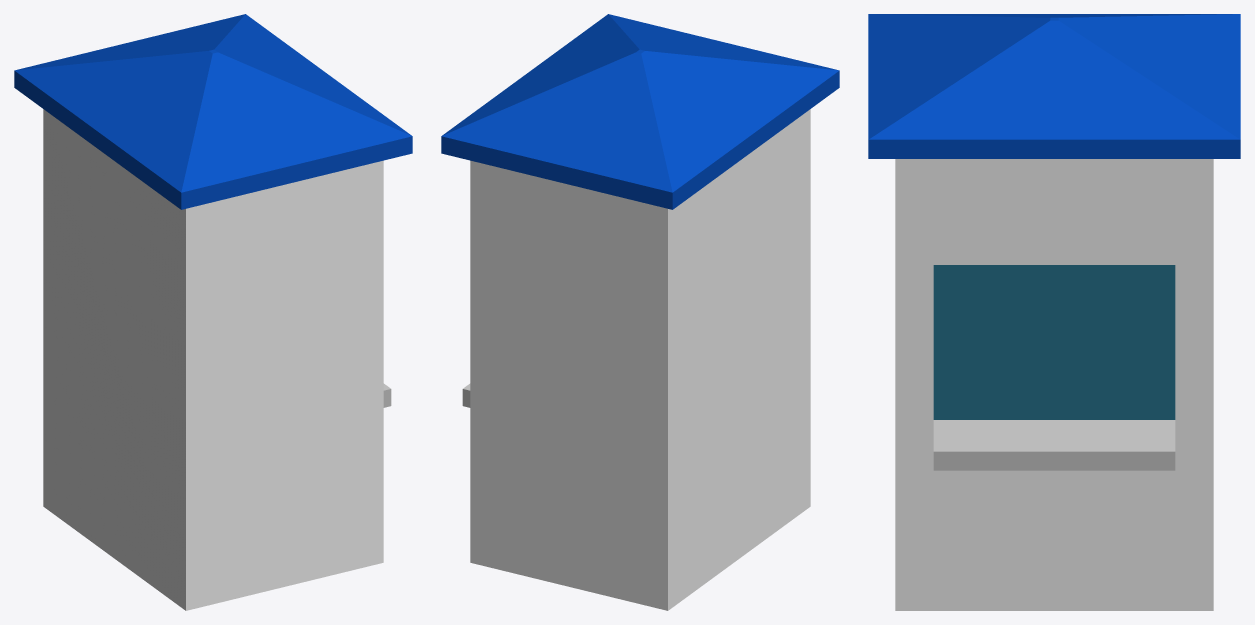
File: TicketBooth.fbx
3 views of the same model, side by side, from view 1: azimuth 30°, elevation 25°; view 2: azimuth 150°, elevation 25°; view 3: azimuth 270°, elevation 25° (orthographic). The views are drawn at different scales.
Parts seen in each view (by area): view 1: TicketBooth; view 2: TicketBooth; view 3: TicketBooth.
Part boxes in pixels (<box>): TicketBooth: <box>14,14,412,610</box>; TicketBooth: <box>441,14,839,610</box>; TicketBooth: <box>868,14,1240,610</box>.
Size of the model in its own units: 145 by 280 by 175.
